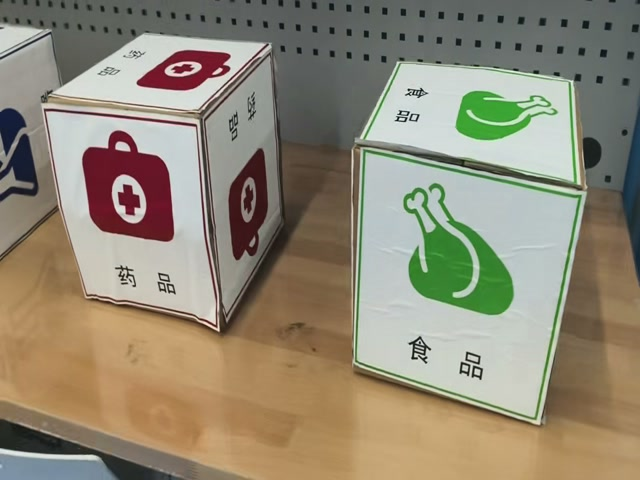Cube_food: (353, 61, 577, 177)
Cube_medicine: (40, 38, 272, 126)
